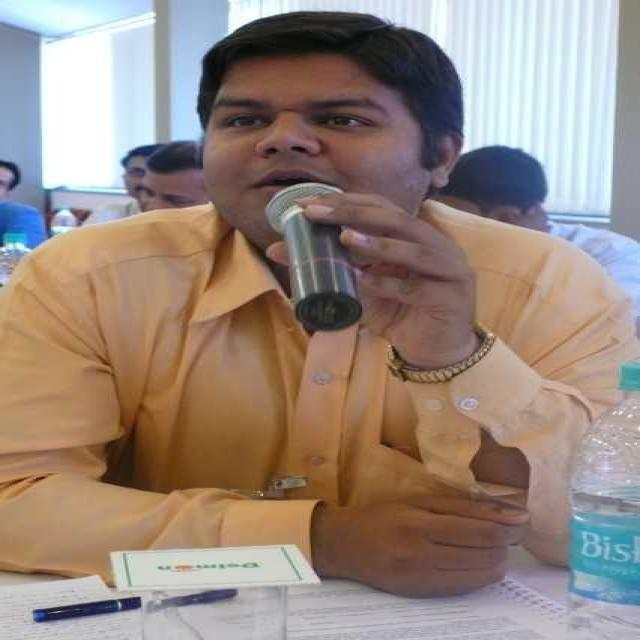microphone: (262, 180, 364, 335)
